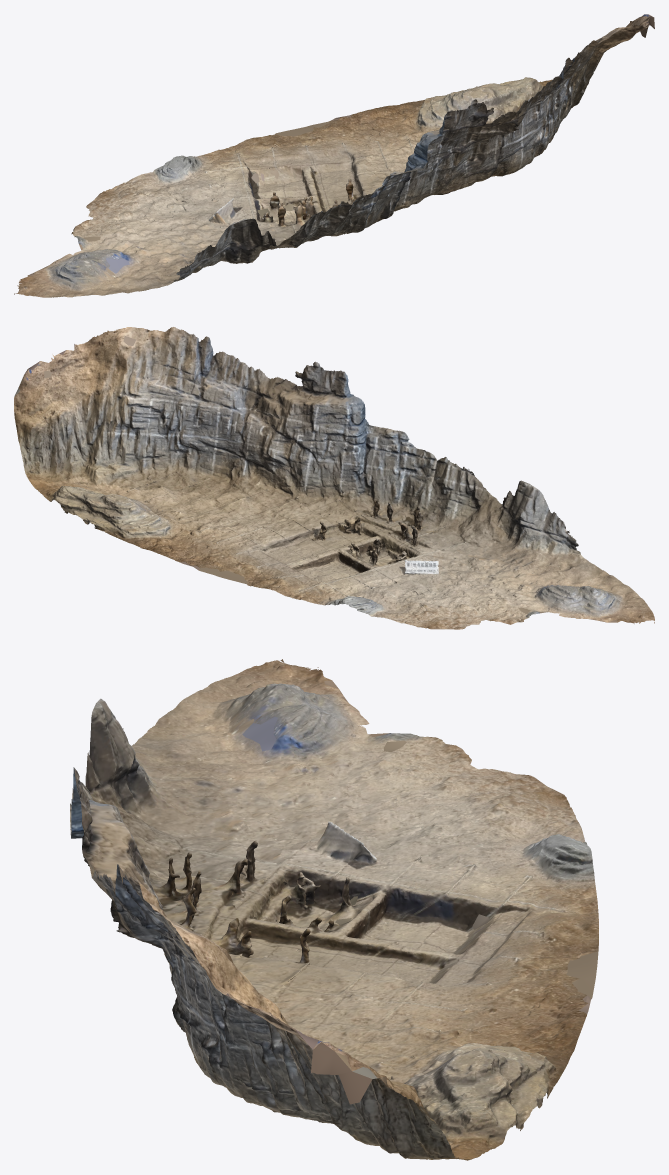
Rendered from zhoukoudian.glb.
3 renders of one model, top to bottom at view 1: azimuth 30°, elevation 25°; view 2: azimuth 150°, elevation 25°; view 3: azimuth 270°, elevation 25°, orthographic. The views are drawn at different scales.
Parts seen in each view (by area): view 1: Zhoukoudian_Site_Scan; view 2: Zhoukoudian_Site_Scan; view 3: Zhoukoudian_Site_Scan.
Boxes of the visible parts, x1,y1,x2,y2 form: Zhoukoudian_Site_Scan: (14, 14, 654, 297); Zhoukoudian_Site_Scan: (14, 327, 654, 629); Zhoukoudian_Site_Scan: (70, 659, 598, 1160).
Bounding box in the file's own units: 10 × 2.26 × 3.69.
Materials: 1 (1 with a texture image).
